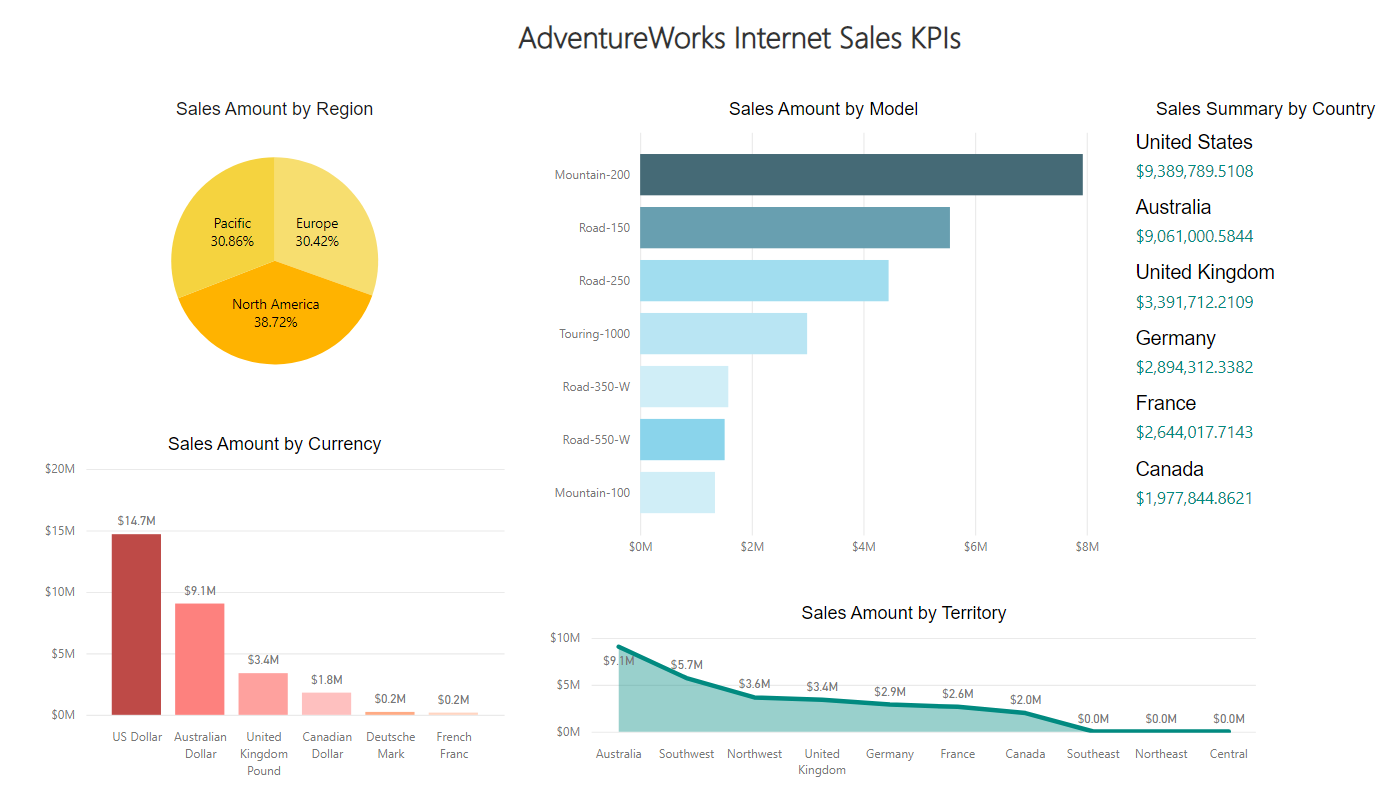

This screenshot's page, from the dashboard's own definition file:
{"tool":"powerbi","page":{"name":"InternetSalesDashboard","canvas":[1280,720],"ordinal":0},"visuals":[{"type":"pieChart","title":"Sales Amount by Region","fields":{"Y":["Sum(FactInternetSales.SalesAmount)"],"Series":["DimSalesTerritory.SalesTerritoryGroup"]},"box":[50.5,92.2,417.6,269.6],"z":0},{"type":"columnChart","title":"Sales Amount by Currency","fields":{"Y":["Sum(FactInternetSales.SalesAmount)"],"Category":["DimCurrency.CurrencyName"]},"box":[50.5,389.3,417.6,313],"z":1000},{"type":"multiRowCard","title":"Sales Summary by Country","fields":{"Values":["Sum(FactInternetSales.SalesAmount)","DimSalesTerritory.SalesTerritoryCountry"]},"box":[1011.7,92.2,252.7,415.9],"z":2000},{"type":"barChart","title":"Sales Amount by Model","fields":{"Category":["DimProduct.ModelName"],"Y":["Sum(FactInternetSales.SalesAmount)"]},"box":[496.6,92.2,499.2,415],"z":3000},{"type":"areaChart","title":"Sales Amount by Territory","fields":{"Category":["DimSalesTerritory.SalesTerritoryRegion"],"Y":["Sum(FactInternetSales.SalesAmount)"]},"box":[496.6,539.1,642,163.2],"z":4000},{"type":"textbox","box":[427.4,13.3,488.6,48.8],"z":5000}]}

Visuals, with their boxes on the page's 1280x720 design canvas (x1, y1, x2, y2). These are canvas units, not pixel positions in the 1382x802 screenshot, which may show the page scaled, cropped or inside an application window:
"Sales Amount by Region" pieChart: bbox(50, 92, 468, 362)
"Sales Amount by Currency" columnChart: bbox(50, 389, 468, 702)
"Sales Summary by Country" multiRowCard: bbox(1012, 92, 1264, 508)
"Sales Amount by Model" barChart: bbox(497, 92, 996, 507)
"Sales Amount by Territory" areaChart: bbox(497, 539, 1139, 702)
textbox: bbox(427, 13, 916, 62)
